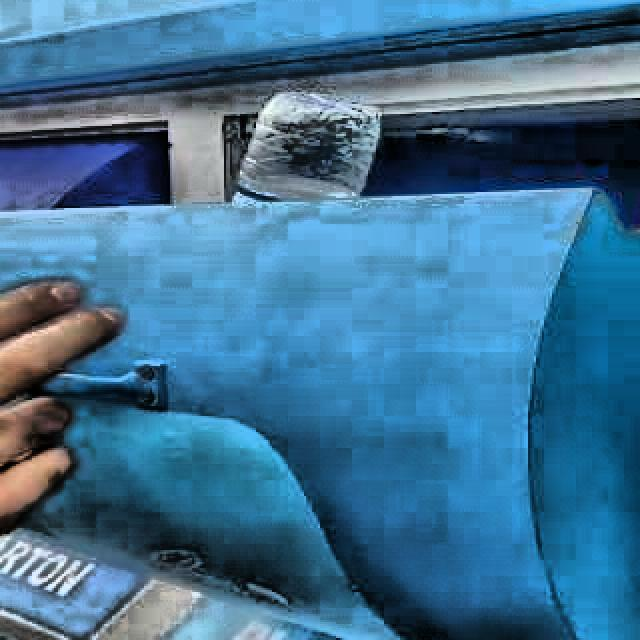plastic: (232, 92, 381, 200)
